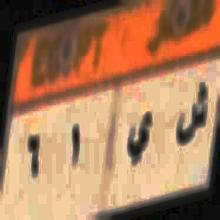1: (69, 113, 82, 181)
6: (25, 128, 41, 187)
sheen: (174, 79, 211, 157)
yaa: (126, 103, 153, 174)
